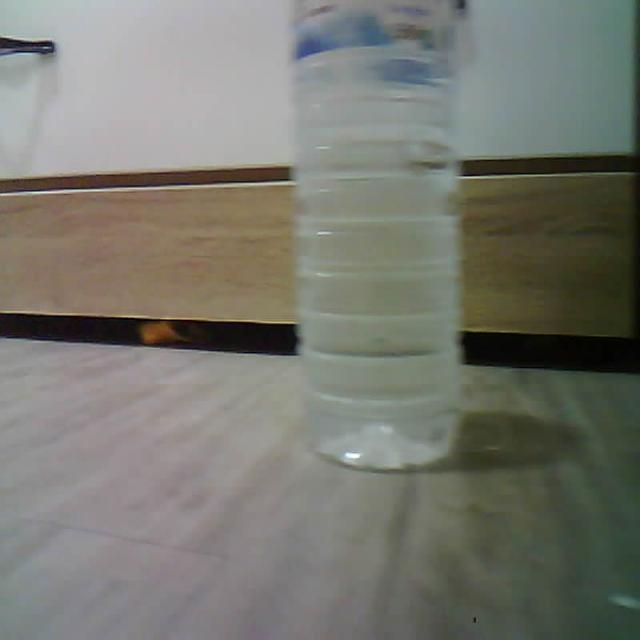bottle: (293, 0, 462, 468)
